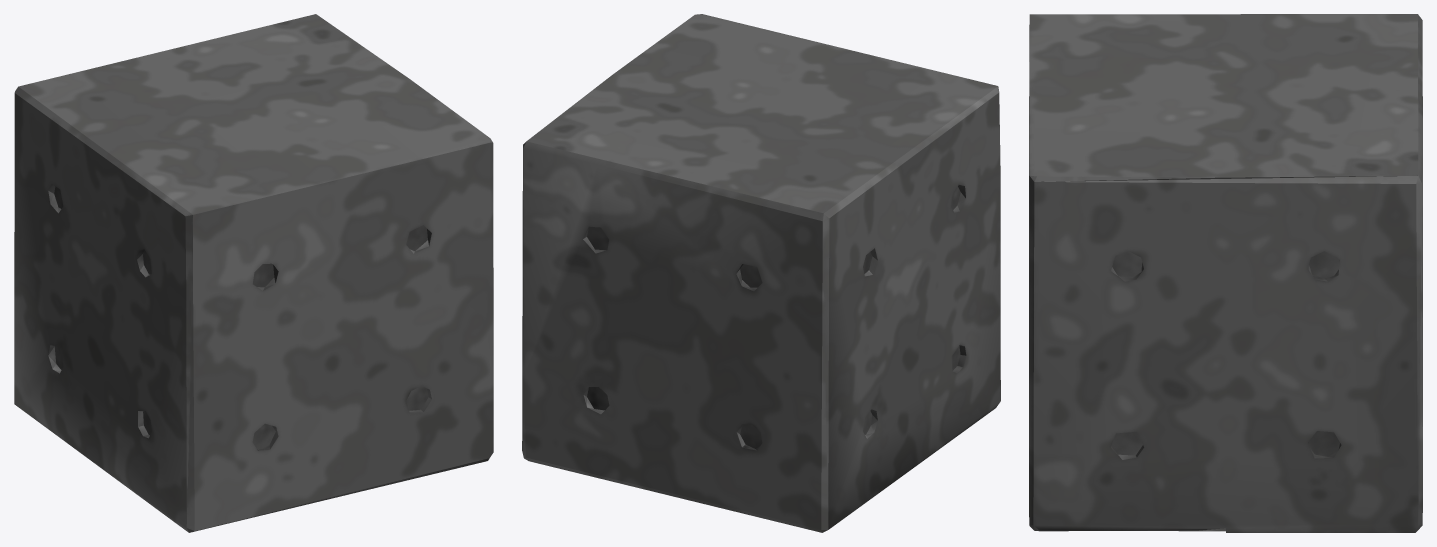
The model's file is blocks_konnkurito.fbx.
The picture shows the model from 3 angles, left to right: view 1: azimuth 30°, elevation 25°; view 2: azimuth 150°, elevation 25°; view 3: azimuth 270°, elevation 25°; orthographic projection. The views are drawn at different scales.
Visible parts, largest first — view 1: konnkurito; view 2: konnkurito; view 3: konnkurito.
Part boxes in pixels (x1,y1,x2,y2): konnkurito: (14,14,493,532); konnkurito: (522,14,1000,532); konnkurito: (1029,14,1422,532).
Size of the model in its own units: 80.76 by 80.66 by 80.71.
